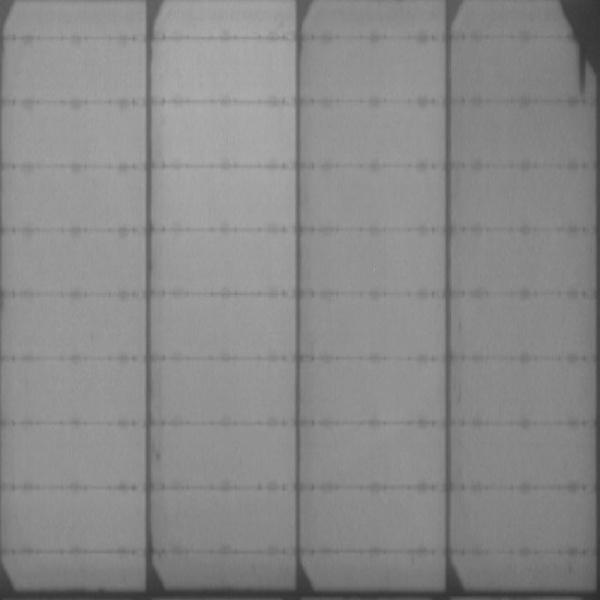broken: (557, 1, 600, 96)
